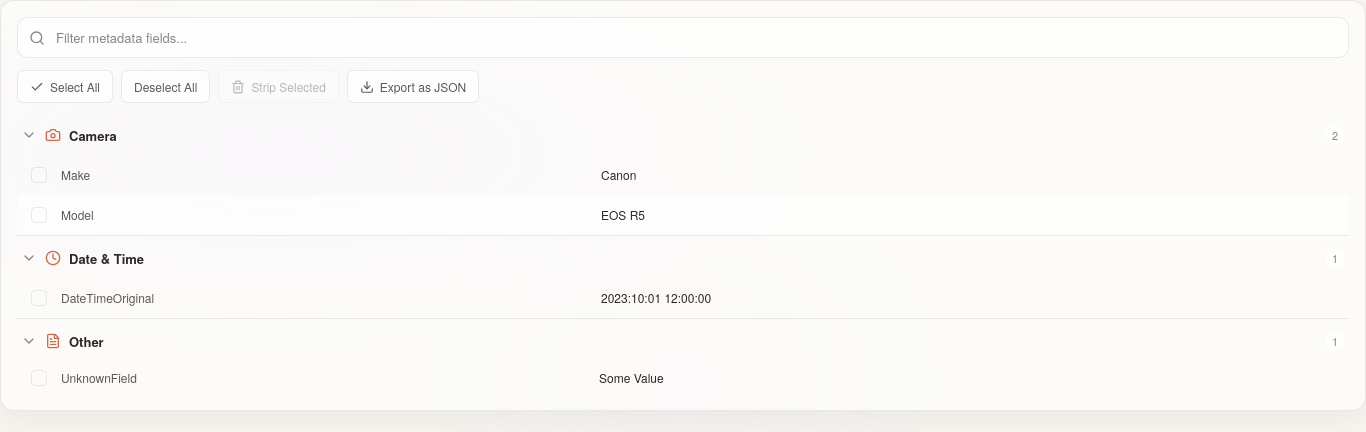
MetadataEditor Component › filters metadata fields based on search query
Type "Model" into the field with placeholder "Filter metadata fields...".
click(683, 38); type("Model")  # box [17,17,1349,58]
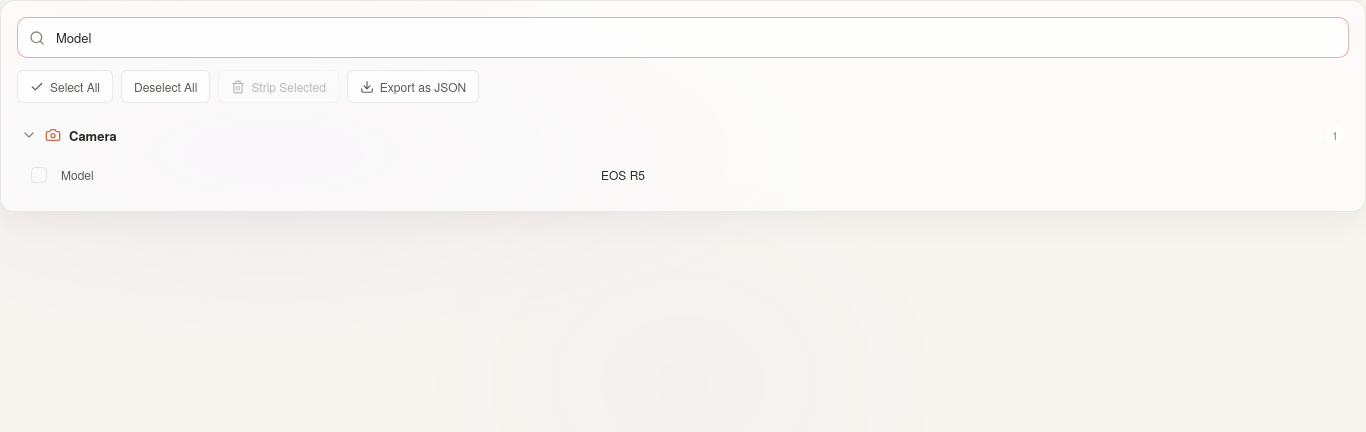
Check: the text "Model" is shown, box [61,166,94,183]
Check: the text "Make" is gone
